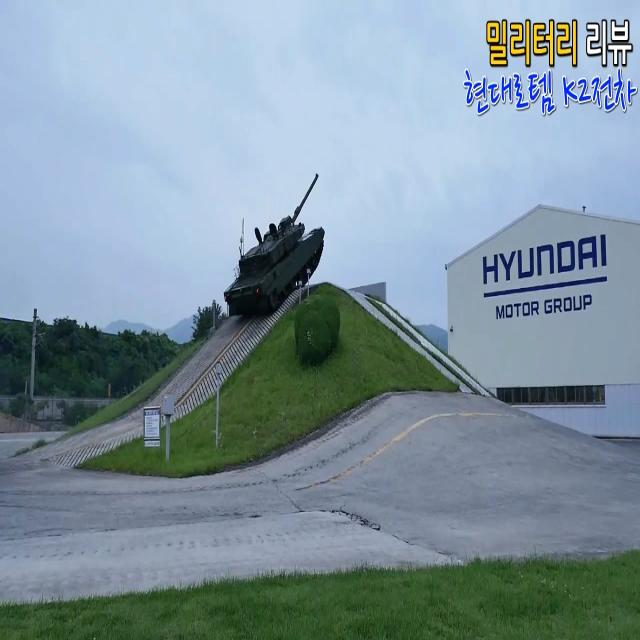korea tank: (218, 162, 329, 322)
